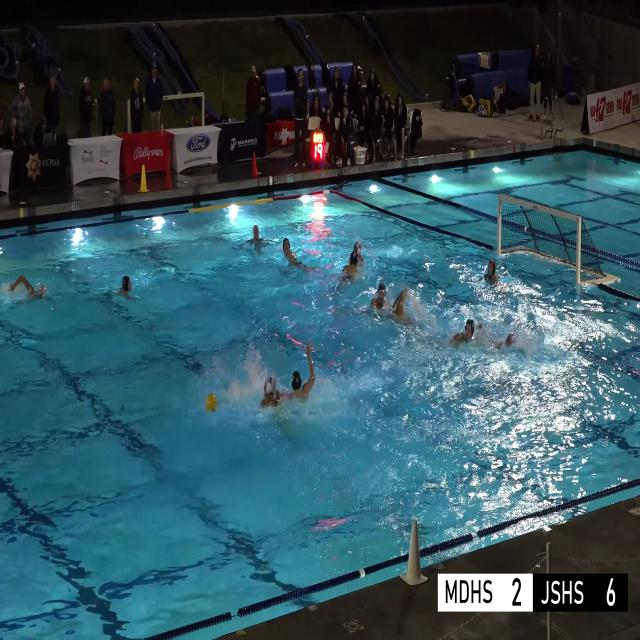ball: (205, 393, 217, 412), (356, 145, 361, 149)
